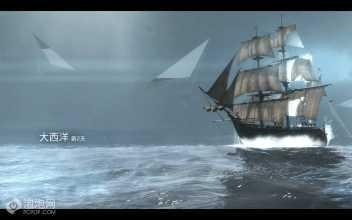fanchuan: (201, 17, 344, 151)
